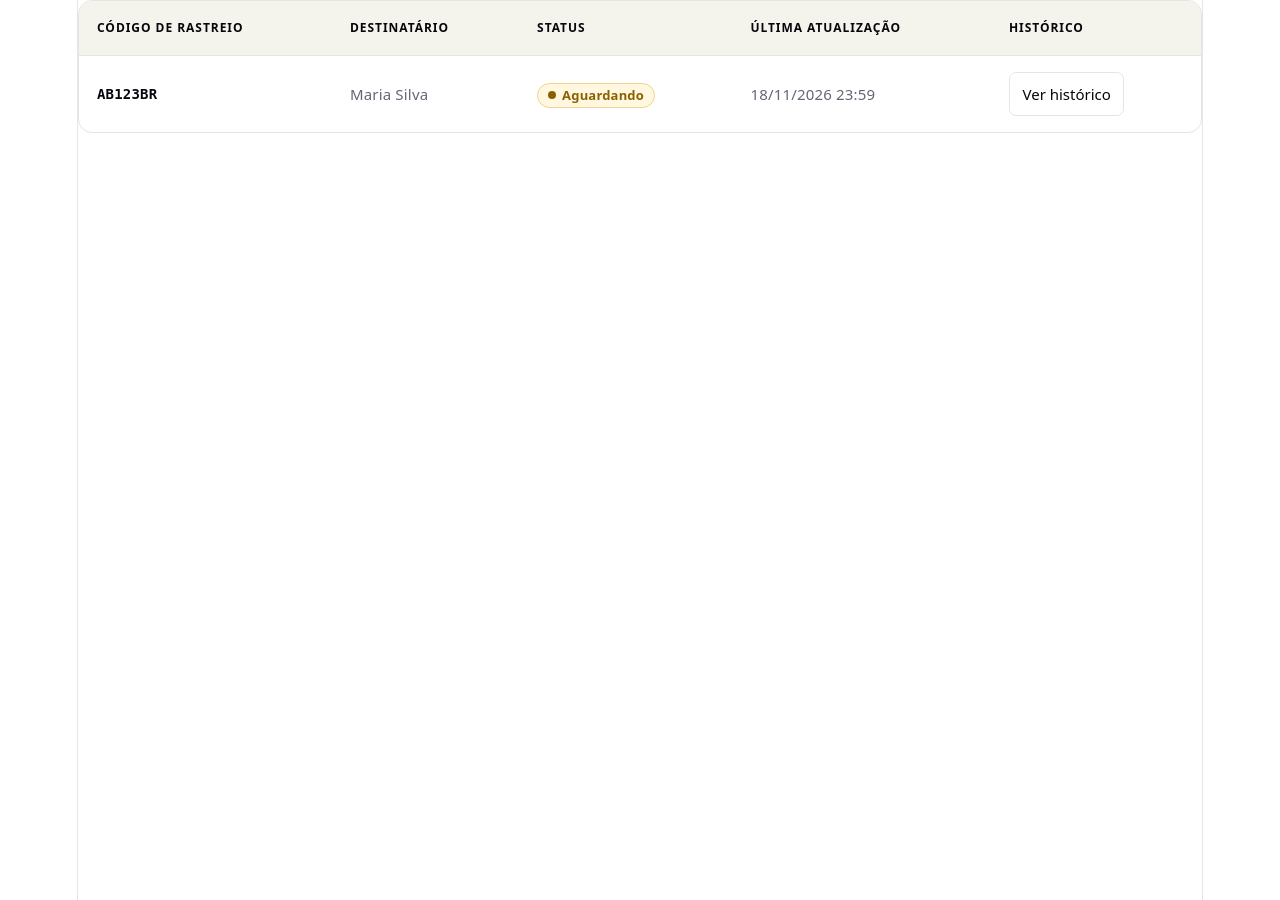
Test case: apresentação › renderiza eventos em ordem com um fallback para itens inválidos
The image size is (1280, 900).
What coordinates should you click on to do the following:
click the button "Ver histórico"
I would click on:
 (1067, 94)
Its box is x1=1009 y1=72 x2=1124 y2=116.
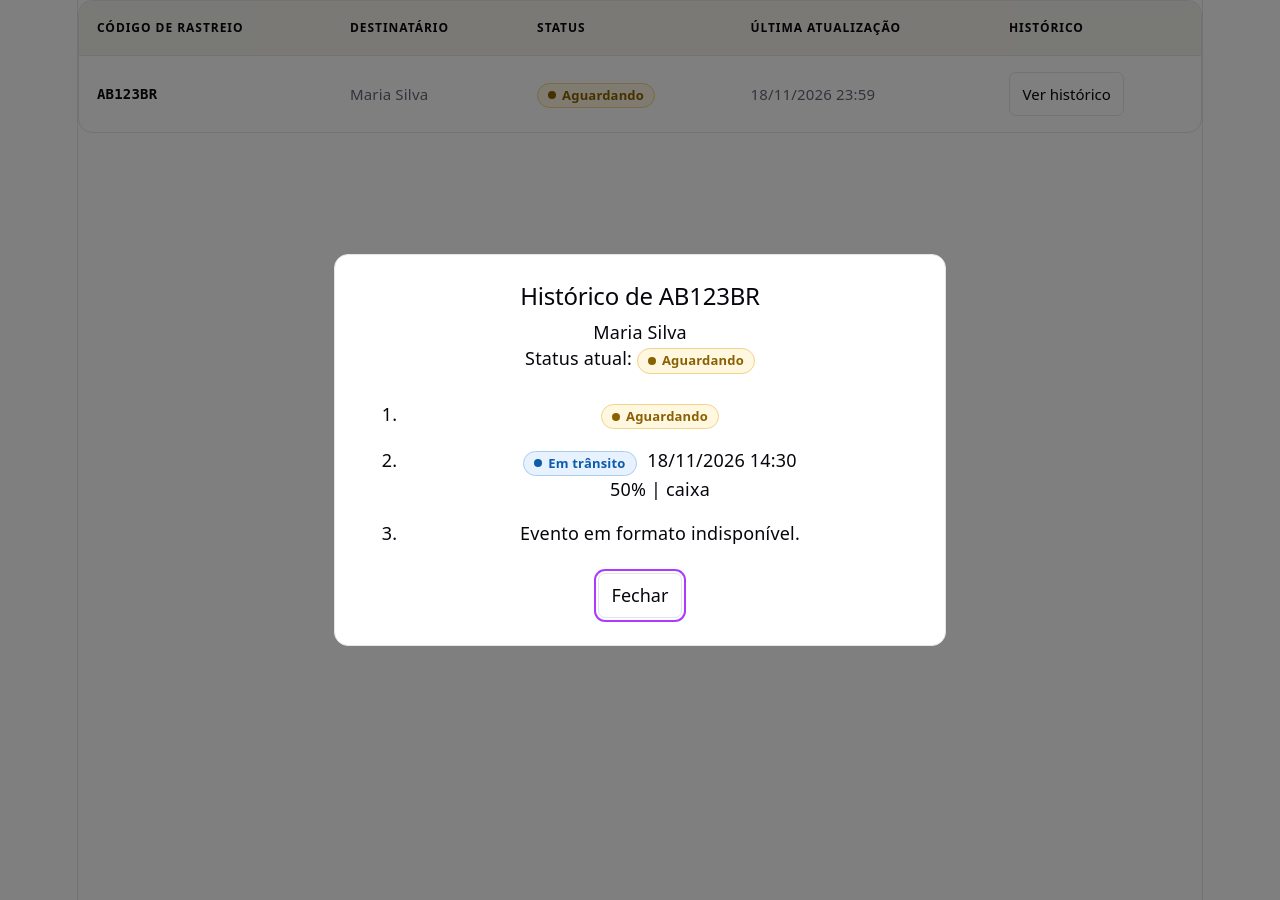
expect the text "18/11/2026 14:30" is shown: met, box x1=647 y1=448 x2=797 y2=472
expect the text "50% | caixa" is shown: met, box x1=610 y1=477 x2=710 y2=501
expect the text "Evento em formato indisponível." is shown: met, box x1=520 y1=521 x2=800 y2=545
